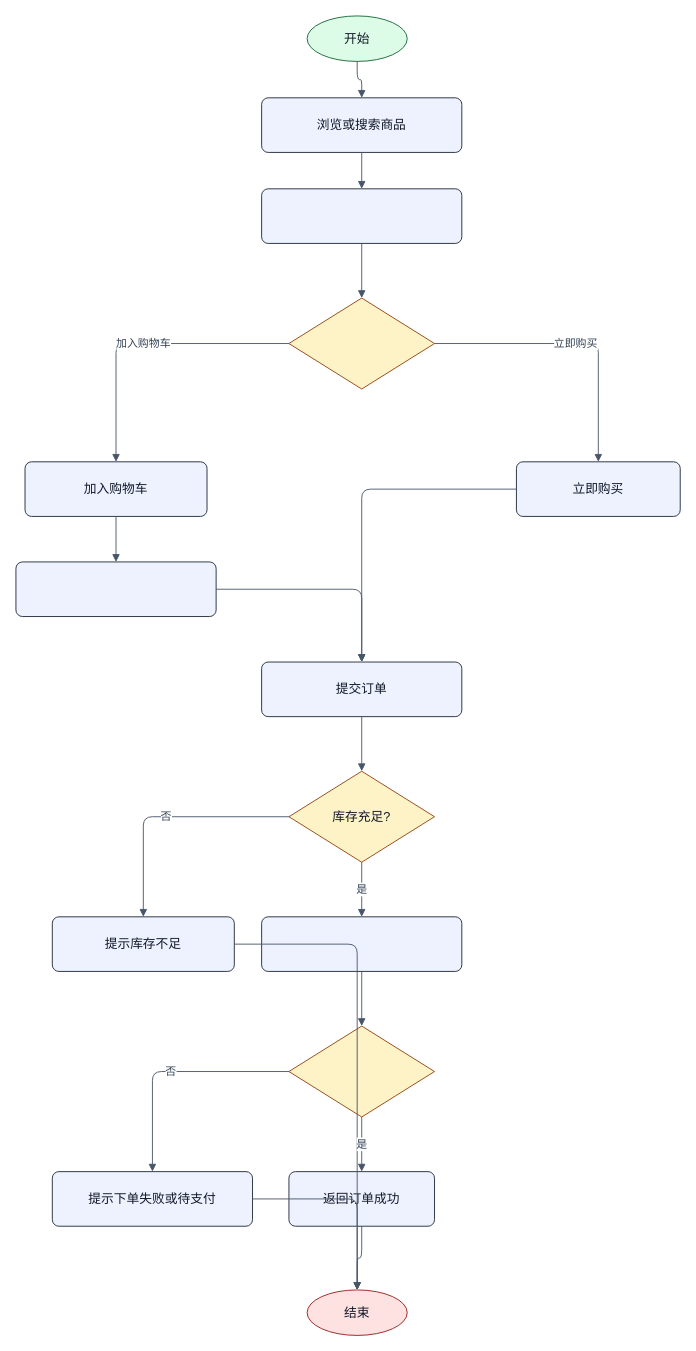
The diagram is 696 pixels wide and 1351 high, and some of its shapes have lost their labels. Here are the shapes that lost their labels. From the top down, the centre of each, then its label:
At (361,215): "查看商品详情".
At (361,343): "操作方式".
At (115,589): "查看购物车并勾选商品".
At (361,943): "扣减库存并创建订单".
At (361,1071): "支付成功?".
